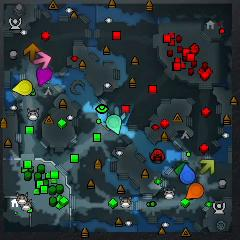p1: (180, 163, 195, 184)
p2: (106, 114, 121, 134)
p3: (36, 66, 53, 86)
p4: (12, 79, 33, 96)
p5: (185, 183, 204, 199)
x1: (33, 52, 51, 69)
x2: (199, 159, 214, 175)
x3: (107, 106, 126, 121)
x4: (176, 161, 185, 176)
x5: (24, 43, 40, 62)
